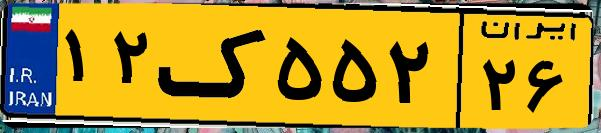1: (57, 26, 110, 100)
2: (385, 28, 445, 110), (475, 38, 525, 113), (110, 28, 158, 98)
5: (270, 28, 330, 110), (330, 28, 385, 110)
6: (525, 38, 570, 115)
ک: (158, 12, 270, 120)
